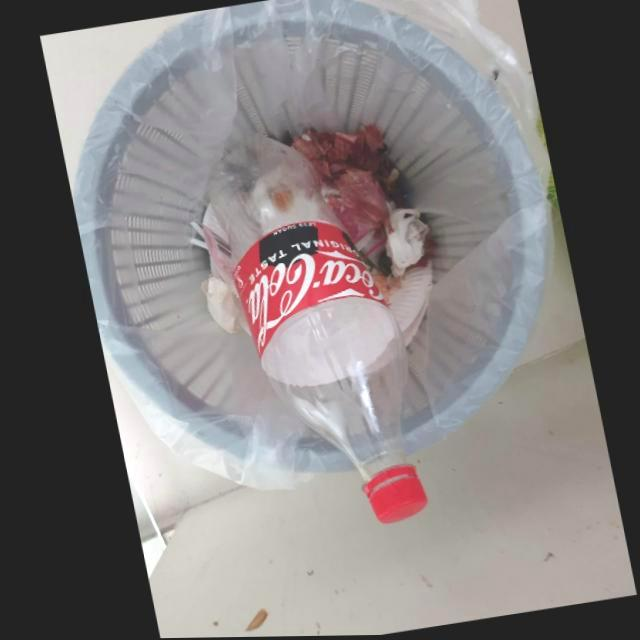cardboard: (385, 261, 429, 328), (398, 268, 430, 349)
paper: (195, 278, 233, 333)
plastic_bottle: (206, 133, 422, 525)
